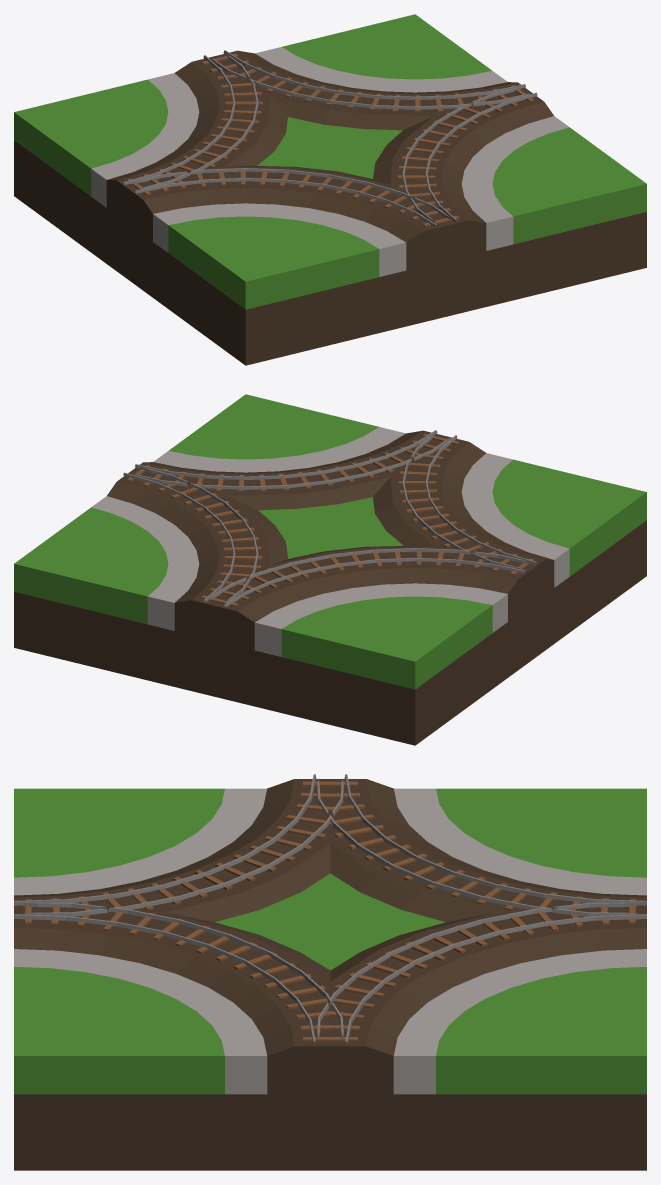
Rendered from tiles_tile-rail-intersection.fbx.
3 views of the same model, one above another, from view 1: azimuth 30°, elevation 25°; view 2: azimuth 150°, elevation 25°; view 3: azimuth 270°, elevation 25° (orthographic). The views are drawn at different scales.
Visible parts, largest first — view 1: tiles_tile_rail_intersection; view 2: tiles_tile_rail_intersection; view 3: tiles_tile_rail_intersection.
Boxes of the visible parts, left/top/right/bottom form: tiles_tile_rail_intersection: left=14, top=14, right=646, bottom=365; tiles_tile_rail_intersection: left=14, top=394, right=646, bottom=745; tiles_tile_rail_intersection: left=14, top=774, right=646, bottom=1170.
Size of the model in its own units: 200 by 44.97 by 200.
